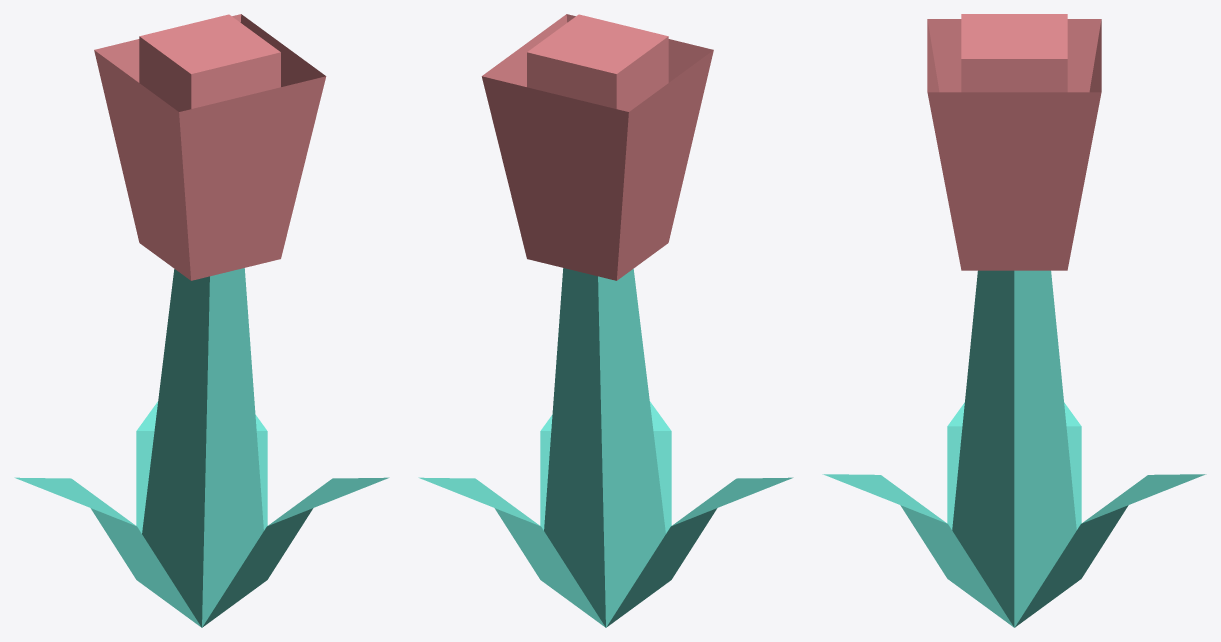
The model's file is kn_flower_redA.glb.
The picture shows the model from 3 angles, left to right: view 1: azimuth 30°, elevation 25°; view 2: azimuth 150°, elevation 25°; view 3: azimuth 270°, elevation 25°; orthographic projection. The views are drawn at different scales.
Parts seen in each view (by area): view 1: flower_redA; view 2: flower_redA; view 3: flower_redA.
Boxes of the visible parts, bbox=[...] form: flower_redA: bbox=[14, 14, 389, 627]; flower_redA: bbox=[418, 14, 793, 627]; flower_redA: bbox=[822, 14, 1206, 627].
Size of the model in its own units: 0.1551 by 0.2852 by 0.1766.
